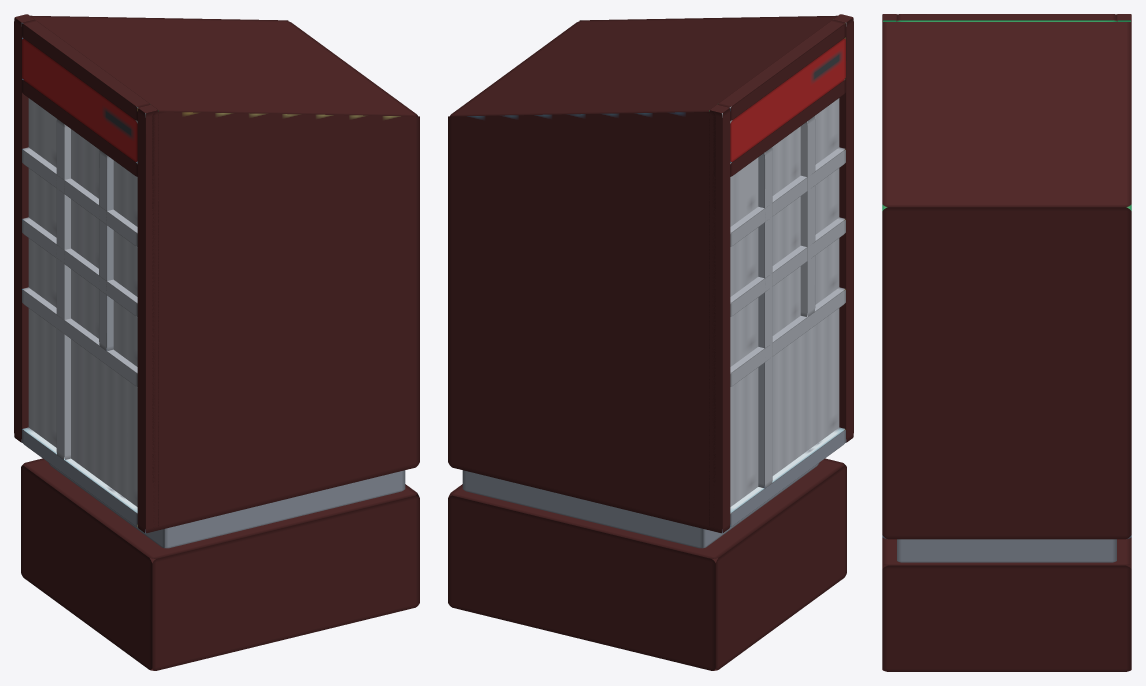
File: POBox1.fbx
The picture shows the model from 3 angles, left to right: view 1: azimuth 30°, elevation 25°; view 2: azimuth 150°, elevation 25°; view 3: azimuth 270°, elevation 25°; orthographic projection. The views are drawn at different scales.
Parts seen in each view (by area): view 1: cuboid, cuboid_1, cuboid_4, cuboid_2, cuboid_3, cuboid_10, cuboid_12, cuboid_5, cuboid_11, cuboid_6, cuboid_7, cuboid_9 (+2 smaller); view 2: cuboid, cuboid_1, cuboid_3, cuboid_2, cuboid_4, cuboid_10, cuboid_12, cuboid_5, cuboid_11, cuboid_6, cuboid_7, cuboid_8 (+2 smaller); view 3: cuboid, cuboid_1, cuboid_2, cuboid_5.
Boxes of the visible parts, x1,y1,x2,y2 form: cuboid: (21,15,419,530); cuboid_1: (21,458,419,670); cuboid_4: (137,104,158,533); cuboid_2: (49,463,405,548); cuboid_3: (14,14,34,442); cuboid_10: (22,38,137,162); cuboid_12: (56,119,70,459); cuboid_5: (22,20,150,120); cuboid_11: (99,150,113,350); cuboid_6: (22,427,137,527); cuboid_7: (22,287,137,386); cuboid_9: (22,147,137,246); cuboid: (448,15,846,530); cuboid_1: (448,458,846,670); cuboid_3: (709,104,730,533); cuboid_2: (462,463,818,548); cuboid_4: (833,14,853,442); cuboid_10: (730,37,845,162); cuboid_12: (758,147,772,488); cuboid_5: (717,20,845,120); cuboid_11: (800,116,815,316); cuboid_6: (730,427,845,527); cuboid_7: (730,287,845,386); cuboid_8: (730,217,845,316); cuboid: (882,20,1131,539); cuboid_1: (882,537,1131,671); cuboid_2: (897,539,1116,562); cuboid_5: (897,14,1116,21).
Size of the model in its own units: 25.62 by 50 by 21.25.
Materials: 1 (1 with a texture image).
